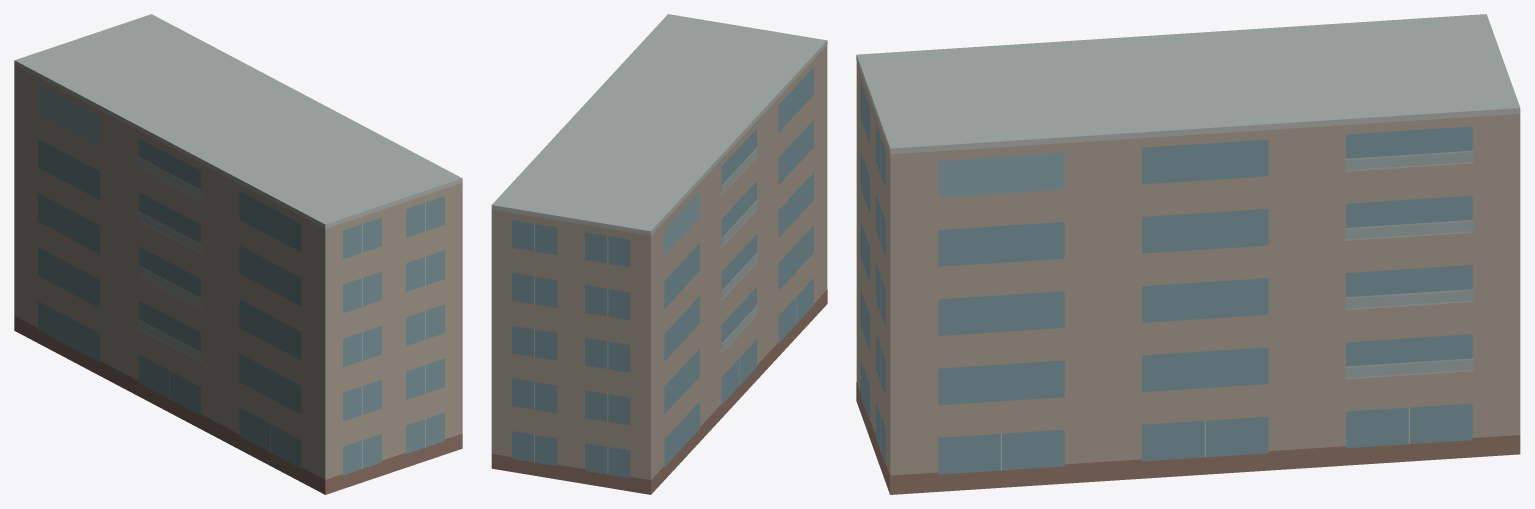
Rendered from survey-upis-32924609.glb.
3 views of the same model, side by side, from view 1: azimuth 30°, elevation 25°; view 2: azimuth 150°, elevation 25°; view 3: azimuth 270°, elevation 25° (orthographic). The views are drawn at different scales.
Parts seen in each view (by area): view 1: survey-upis-32924609.tmp; view 2: survey-upis-32924609.tmp; view 3: survey-upis-32924609.tmp.
Part boxes in pixels (x1,y1,x2,y2): survey-upis-32924609.tmp: (14, 14, 462, 494); survey-upis-32924609.tmp: (491, 14, 827, 494); survey-upis-32924609.tmp: (856, 14, 1520, 494).
Size of the model in its own units: 12.05 by 14.45 by 25.12.
